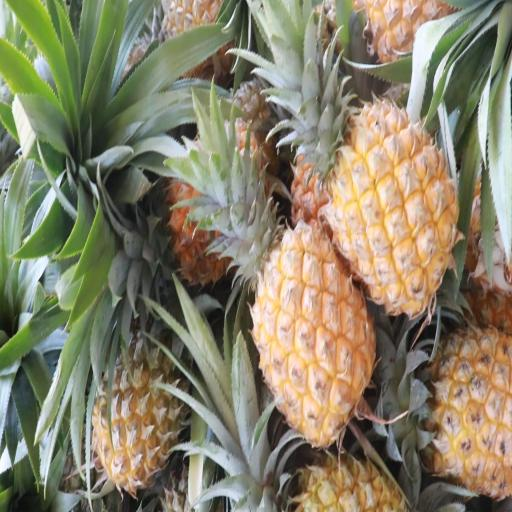Pineapple - v8 v1: (308, 98, 460, 314), (248, 224, 382, 445), (386, 328, 512, 490), (94, 307, 184, 497)
